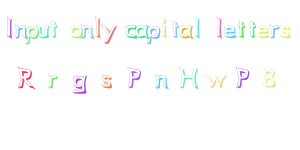8: (262, 67, 277, 88)
H: (178, 66, 200, 90)
I: (2, 14, 19, 41)
P: (126, 64, 141, 89), (235, 65, 250, 89)
R: (15, 65, 36, 90)
a: (134, 23, 149, 39), (179, 24, 194, 39)
c: (124, 23, 137, 39)
e: (222, 23, 237, 38), (257, 23, 269, 39)
g: (72, 74, 88, 95)
i: (159, 16, 169, 39)
l: (93, 15, 103, 39), (214, 15, 224, 39), (194, 15, 203, 39)
n: (153, 73, 170, 89), (80, 22, 94, 40), (14, 22, 28, 39)
o: (68, 24, 84, 39)
p: (25, 24, 40, 46), (147, 24, 161, 46)
r: (46, 72, 59, 89), (269, 22, 280, 38)
s: (280, 22, 293, 39), (100, 73, 113, 89)
t: (246, 17, 256, 39), (170, 19, 180, 38), (237, 19, 246, 39), (49, 19, 58, 38)
u: (37, 24, 50, 39)
w: (203, 72, 228, 89)
y: (101, 23, 117, 45)
